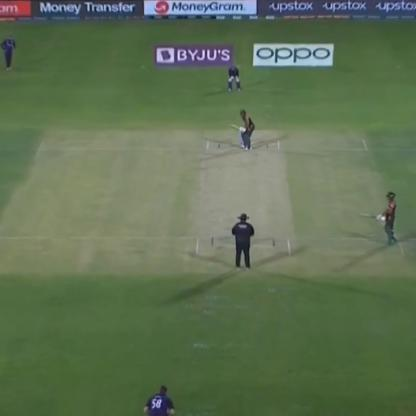bat: (348, 212, 382, 223), (223, 117, 242, 135)
pitch: (188, 134, 290, 268)
